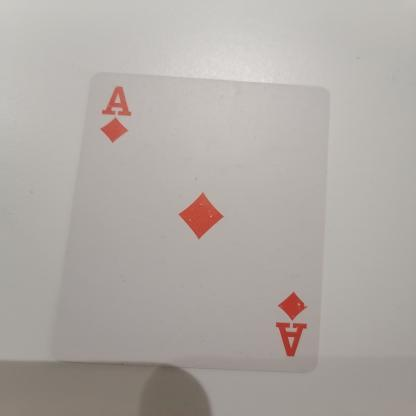AD: (93, 79, 152, 154), (271, 278, 318, 366)
